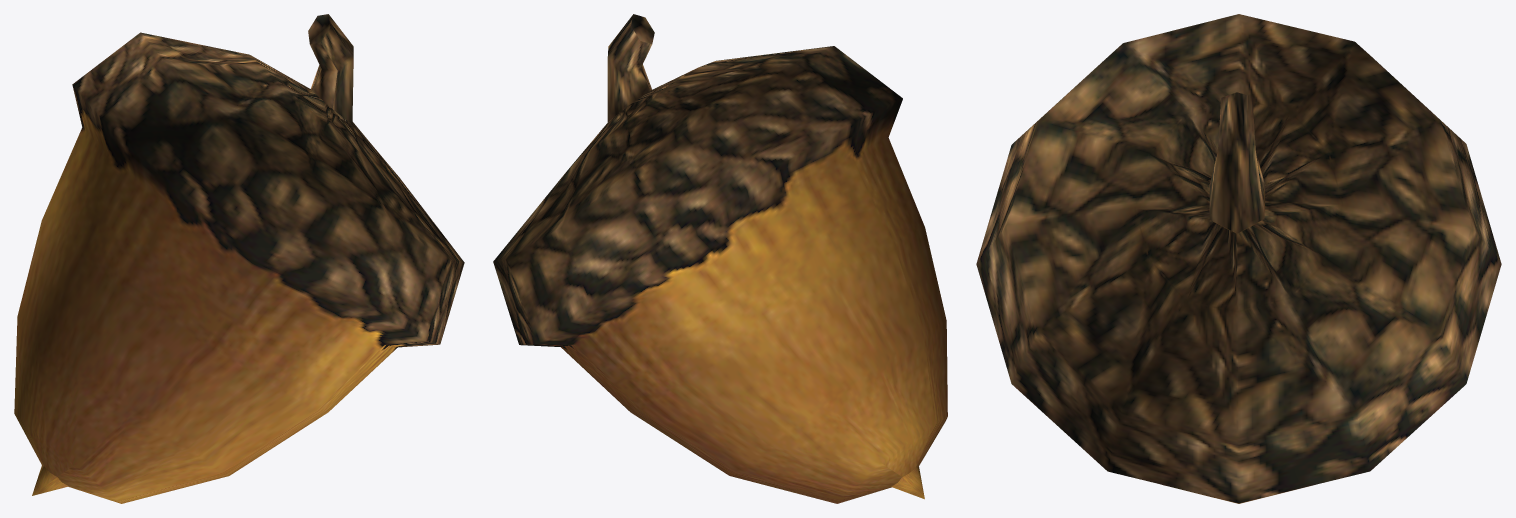
Rendered from icon.ico.obj.
3 renders of one model, left to right at view 1: azimuth 30°, elevation 25°; view 2: azimuth 150°, elevation 25°; view 3: azimuth 270°, elevation 25°, orthographic. The views are drawn at different scales.
Bounding box in the file's own units: 5 × 5 × 4.83.
1 material, 1 textured.
